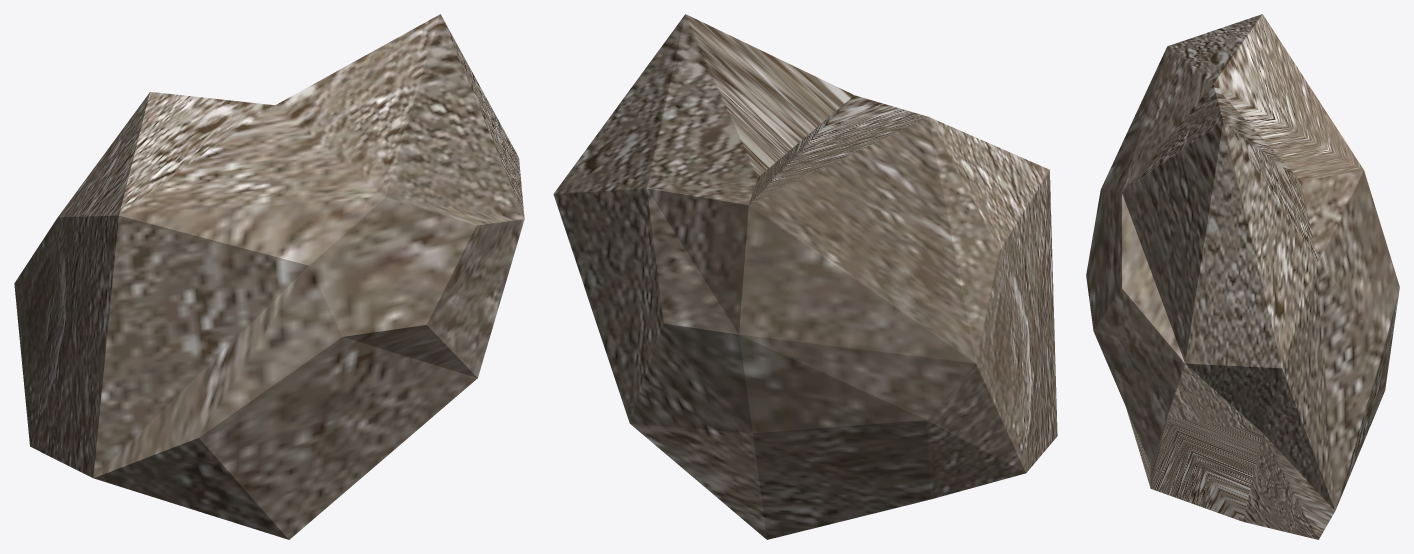
File: asteroid_0.FBX
The picture shows the model from 3 angles, left to right: view 1: azimuth 30°, elevation 25°; view 2: azimuth 150°, elevation 25°; view 3: azimuth 270°, elevation 25°; orthographic projection. The views are drawn at different scales.
Parts seen in each view (by area): view 1: asteroid_0; view 2: asteroid_0; view 3: asteroid_0.
Boxes of the visible parts, <box> form: asteroid_0: <box>14,14,524,539</box>; asteroid_0: <box>553,14,1057,539</box>; asteroid_0: <box>1086,14,1399,539</box>.
Size of the model in its own units: 0.1765 by 0.1646 by 0.0968.
